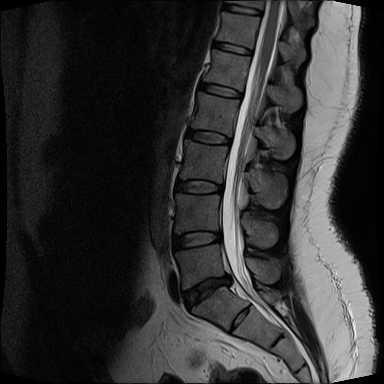Lumbar Disc Bulge (LDB): (179, 261, 242, 318)
Normal IVD: (168, 221, 224, 256), (167, 170, 226, 199), (179, 121, 234, 150), (194, 75, 246, 105), (207, 34, 254, 60), (218, 0, 267, 19)
Spinal Stenosis (SS): (211, 253, 244, 302)
